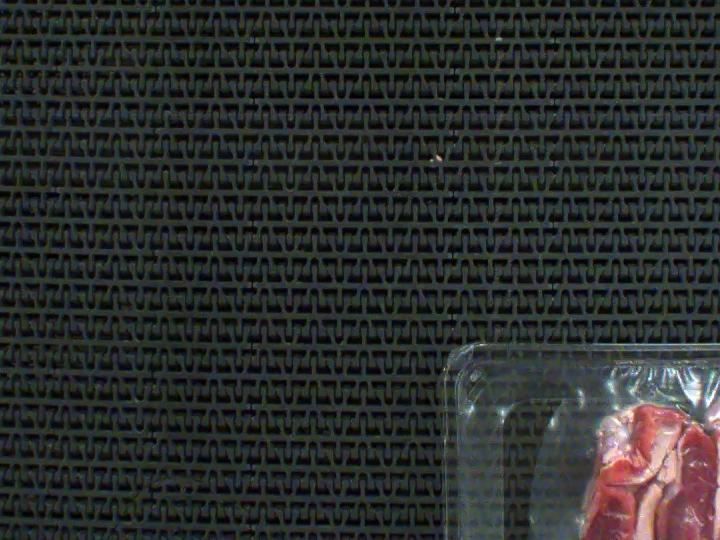unsealed: (521, 368, 720, 540)
